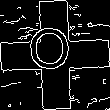O_S: (33, 29, 77, 81)
